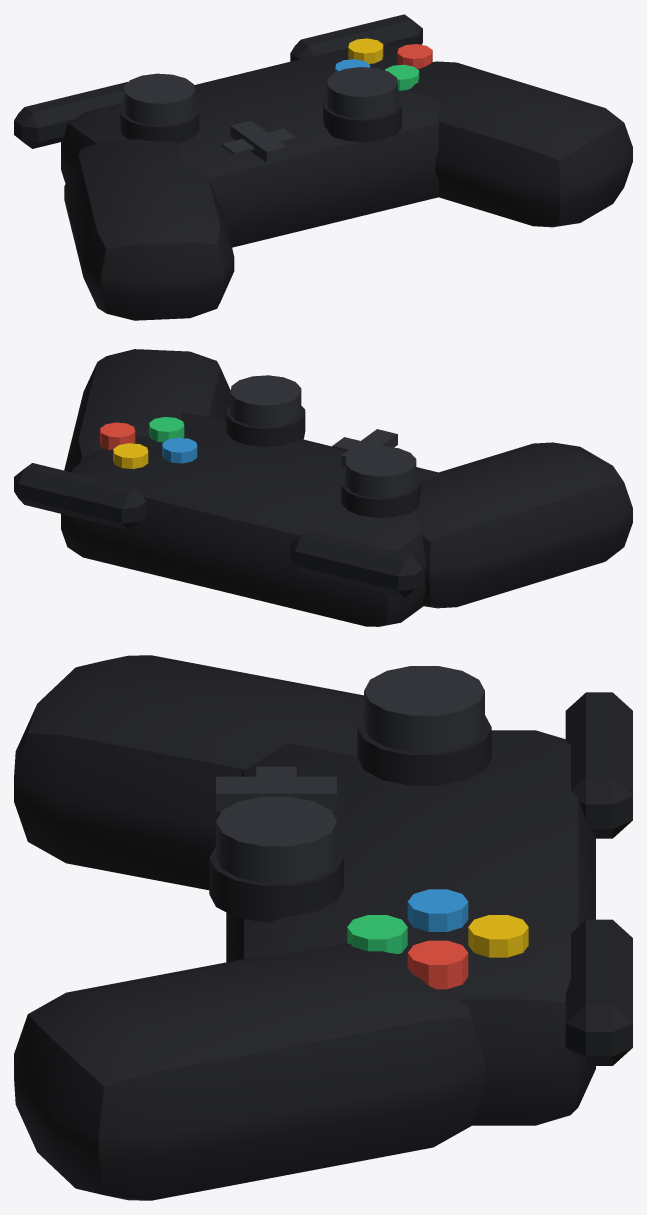
Rendered from game_controller.glb.
The picture shows the model from 3 angles, top to bottom: view 1: azimuth 30°, elevation 25°; view 2: azimuth 150°, elevation 25°; view 3: azimuth 270°, elevation 25°; orthographic projection. The views are drawn at different scales.
Visible parts, largest first — view 1: game_controller; view 2: game_controller; view 3: game_controller.
Boxes of the visible parts, x1,y1,x2,y2 form: game_controller: (14, 14, 632, 320); game_controller: (14, 349, 632, 626); game_controller: (14, 655, 632, 1200).
Bounding box in the file's own units: 0.155 × 0.0383 × 0.0927.
